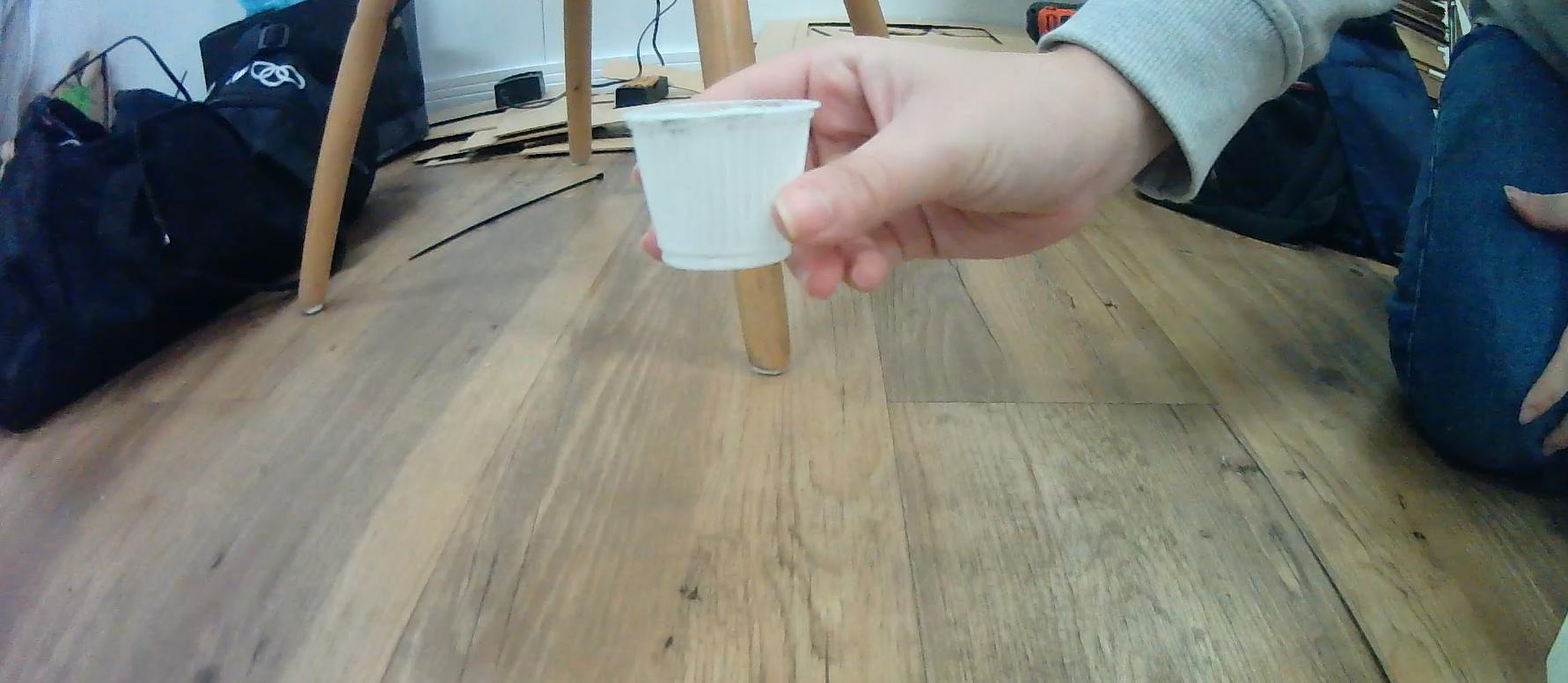planta: (619, 96, 823, 272)
